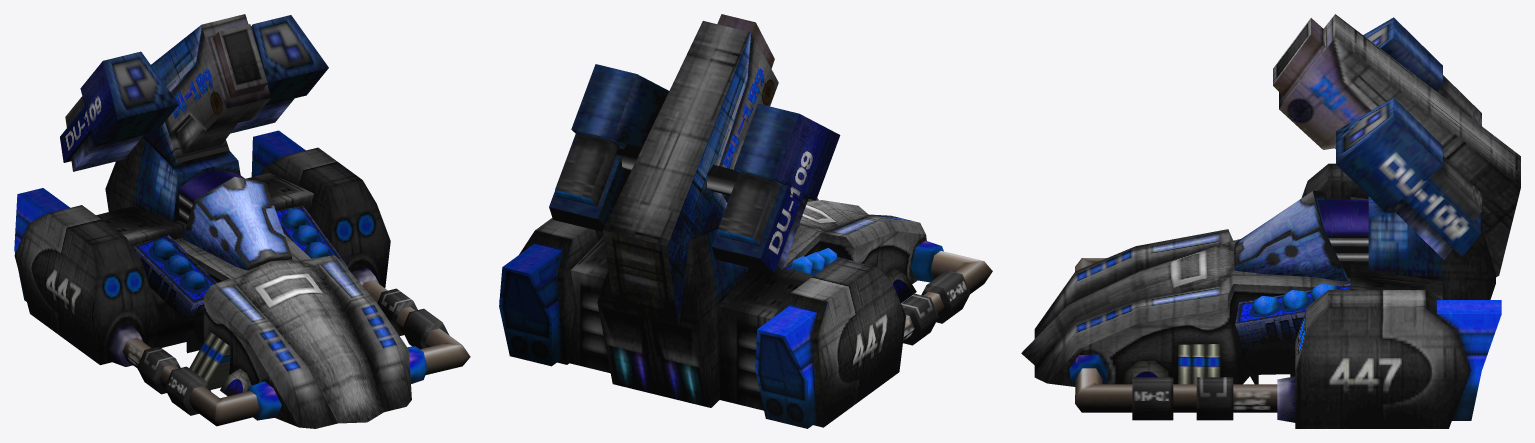
Rendered from datan_common_B0007_e009745a.obj.
3 views of the same model, side by side, from view 1: azimuth 30°, elevation 25°; view 2: azimuth 150°, elevation 25°; view 3: azimuth 270°, elevation 25° (orthographic). The views are drawn at different scales.
Parts seen in each view (by area): view 1: datan_common_B0007_e009745a; view 2: datan_common_B0007_e009745a; view 3: datan_common_B0007_e009745a.
Boxes of the visible parts, box(x1,y1,x2,y2) form: datan_common_B0007_e009745a: box(14, 14, 470, 428); datan_common_B0007_e009745a: box(499, 14, 992, 428); datan_common_B0007_e009745a: box(1021, 14, 1520, 428).
Bounding box in the file's own units: 5.55 × 5.45 × 7.38.
1 material, 1 textured.
